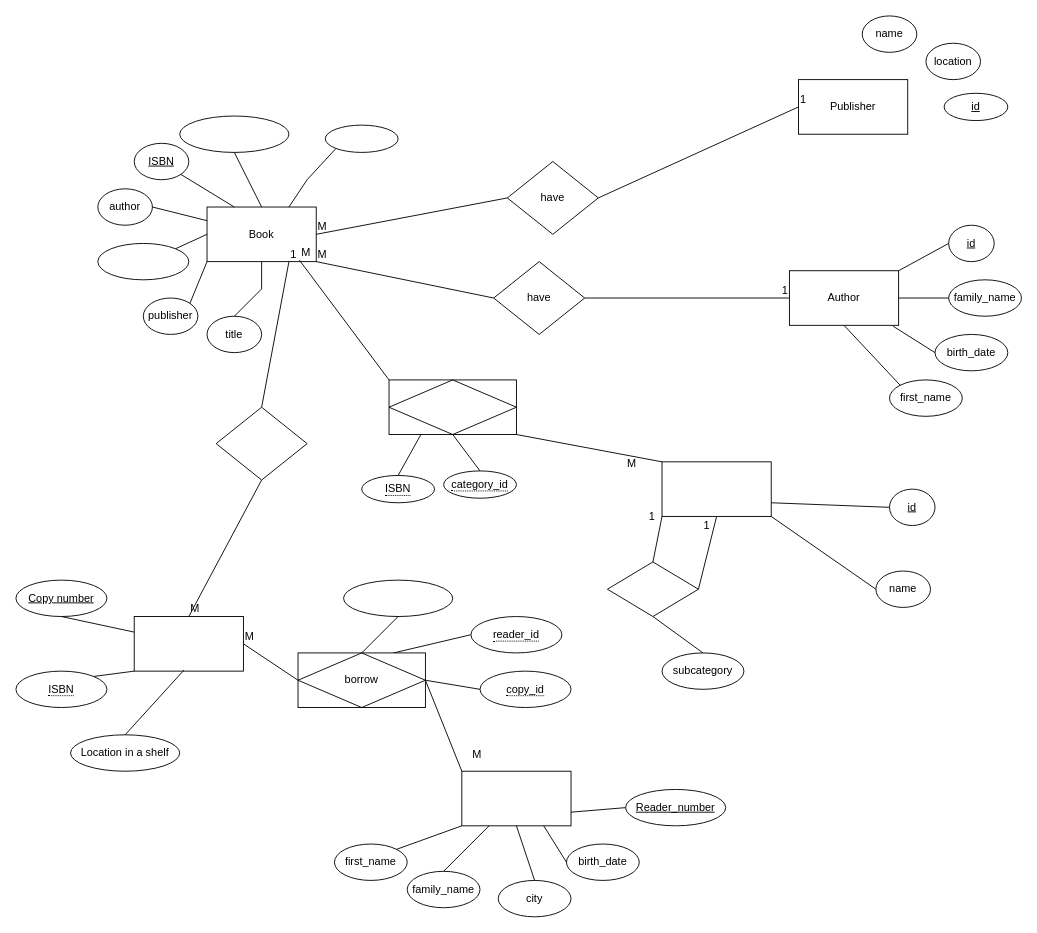
This 1037x933 diagram has some shape labels left out. The shapes that lost their labels are listed below. From the top down, each one's centre as x and y in pixels, then its label:
the point at 234,133: publication_year
the point at 361,138: author_id
the point at 143,261: number_of_pages
the point at 452,407: Associative Entity
the point at 261,443: has
the point at 716,488: Category
the point at 398,598: return_date
the point at 652,589: Relationship
the point at 188,643: Copy
the point at 516,798: Reader
